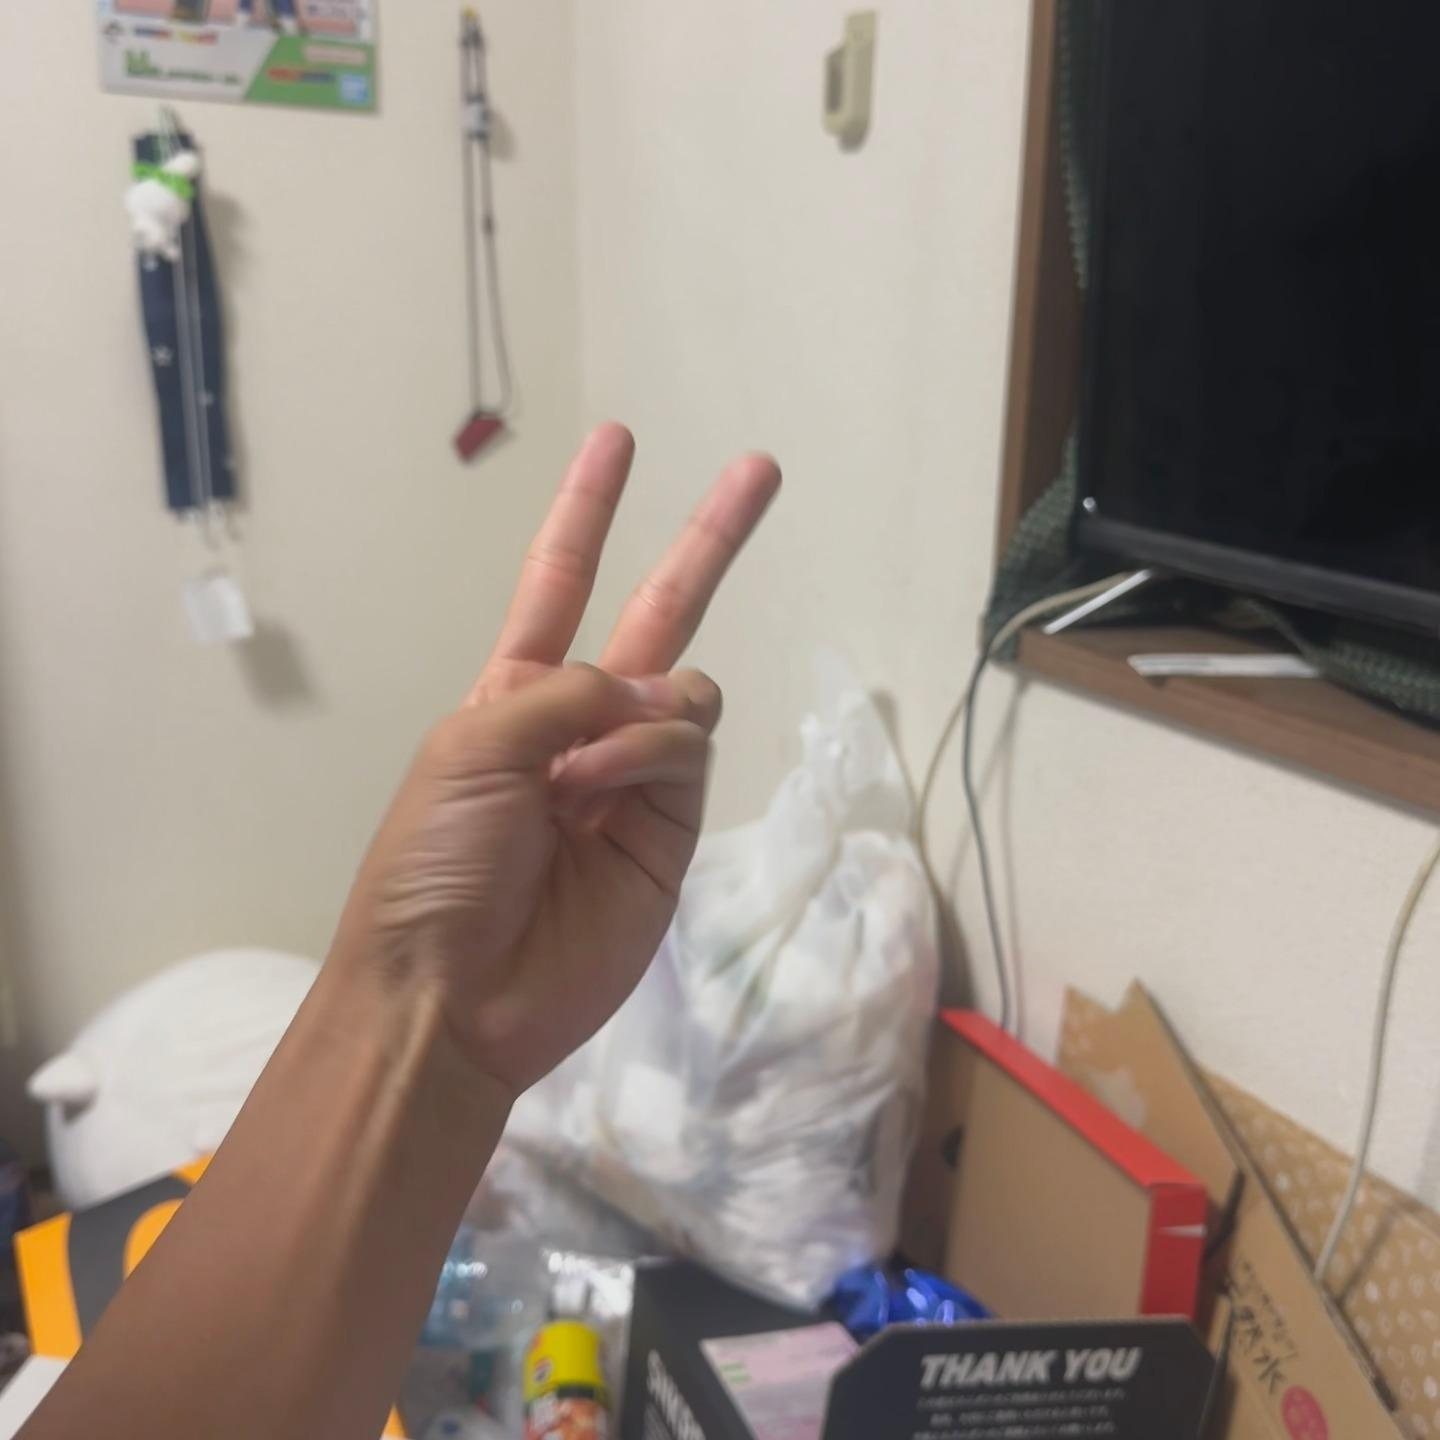without_gloves: (220, 345, 978, 1217)
